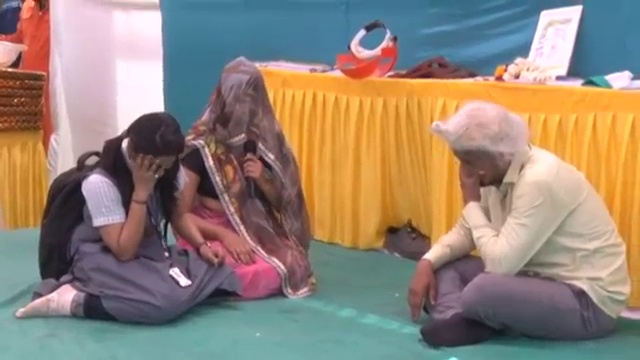helmet: (0, 40, 31, 71)
helmet_off: (438, 102, 530, 198), (118, 110, 184, 183), (214, 61, 268, 136), (18, 1, 45, 15)
person: (407, 104, 632, 342), (24, 110, 209, 319), (171, 59, 311, 301), (1, 1, 48, 72)
